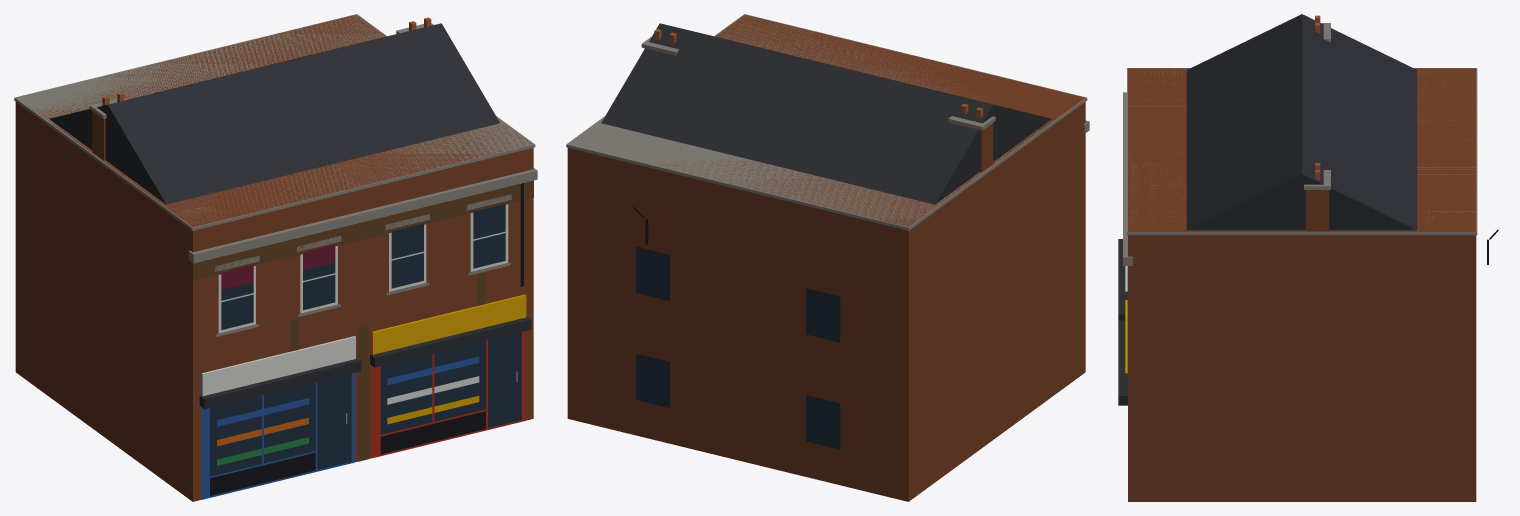
Rendered from bld_rye-lane-terrace_b.9ee9df32a5e0.glb.
The picture shows the model from 3 angles, left to right: view 1: azimuth 30°, elevation 25°; view 2: azimuth 150°, elevation 25°; view 3: azimuth 270°, elevation 25°; orthographic projection.
Visible parts, largest first — view 1: body; view 2: body; view 3: body.
Boxes of the visible parts, left/top/right/bottom form: body: left=14, top=14, right=537, bottom=501; body: left=566, top=14, right=1089, bottom=501; body: left=1118, top=14, right=1498, bottom=501.
Size of the model in its own units: 10.1 by 9.3 by 10.01.
